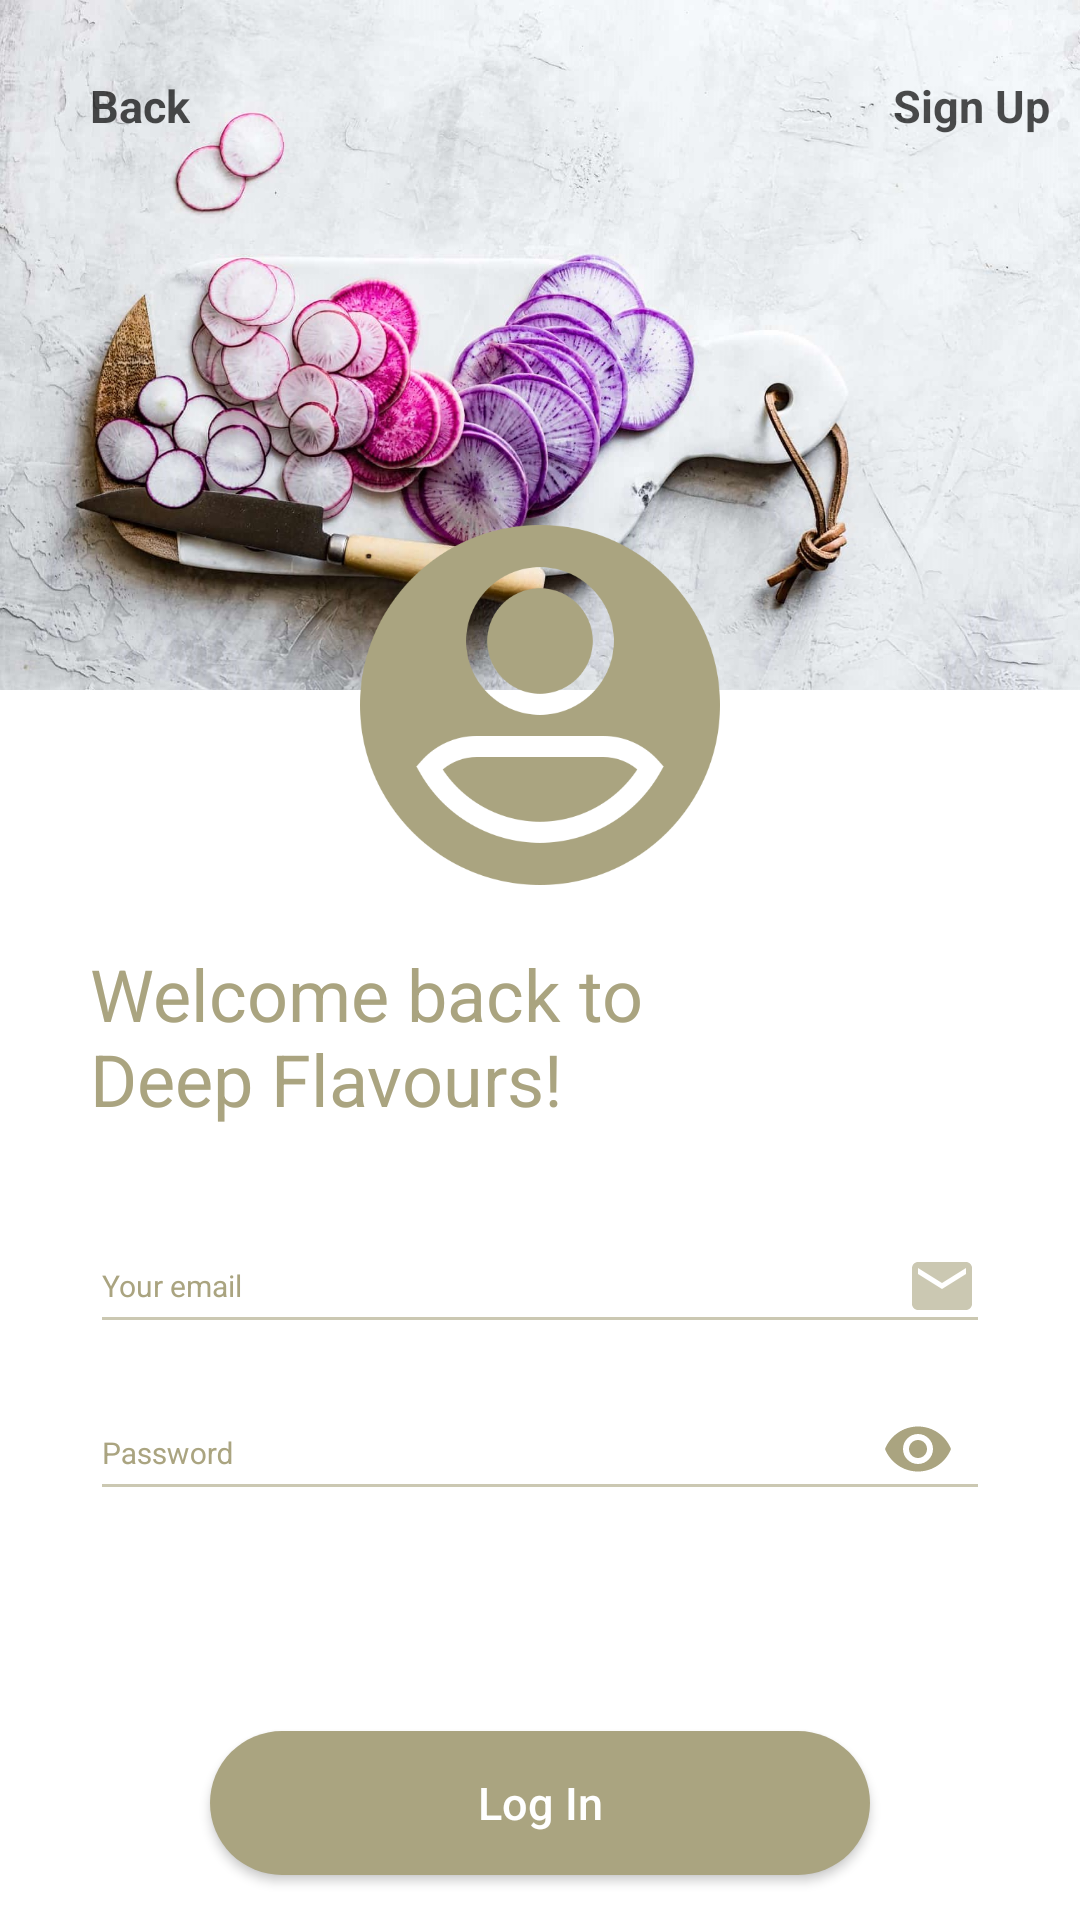

Named icons in this screenshot (1080x1920) and their centers, [x,y]:
user: [540,705]
